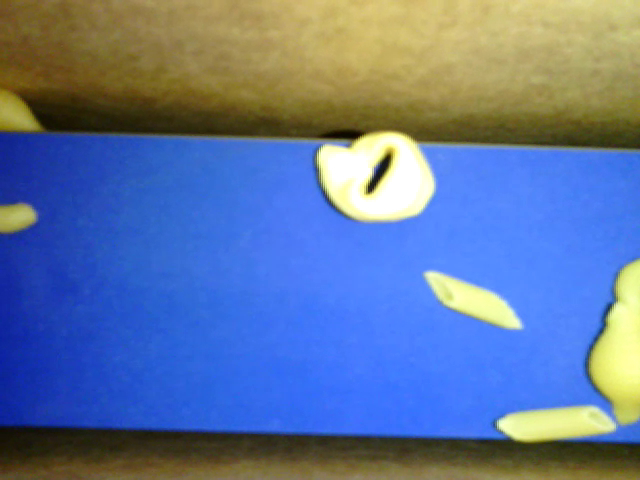elbow: (1, 203, 39, 235)
penne: (424, 268, 522, 329), (493, 406, 617, 445)
tortellini: (315, 129, 436, 224)
